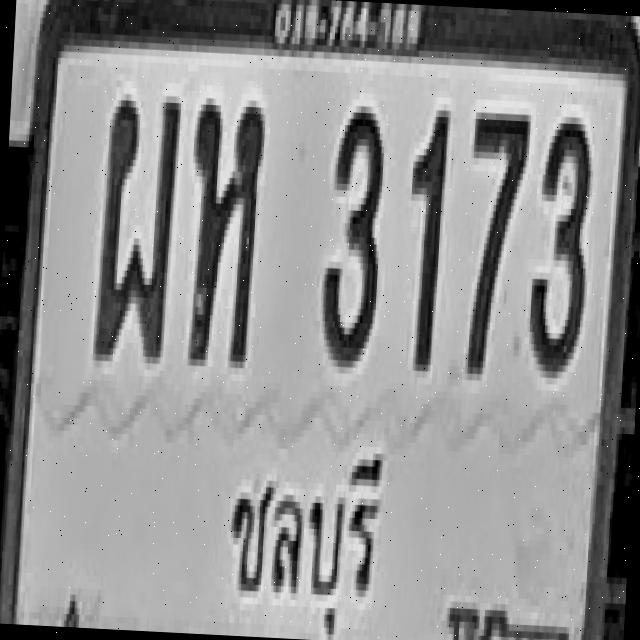1: (401, 106, 450, 368)
3: (318, 102, 387, 366), (526, 116, 594, 373)
37PhorPhueng: (92, 90, 182, 362)
50HorHeep: (184, 102, 265, 366)
7: (461, 106, 530, 377)
Chonburi: (213, 426, 396, 640)
